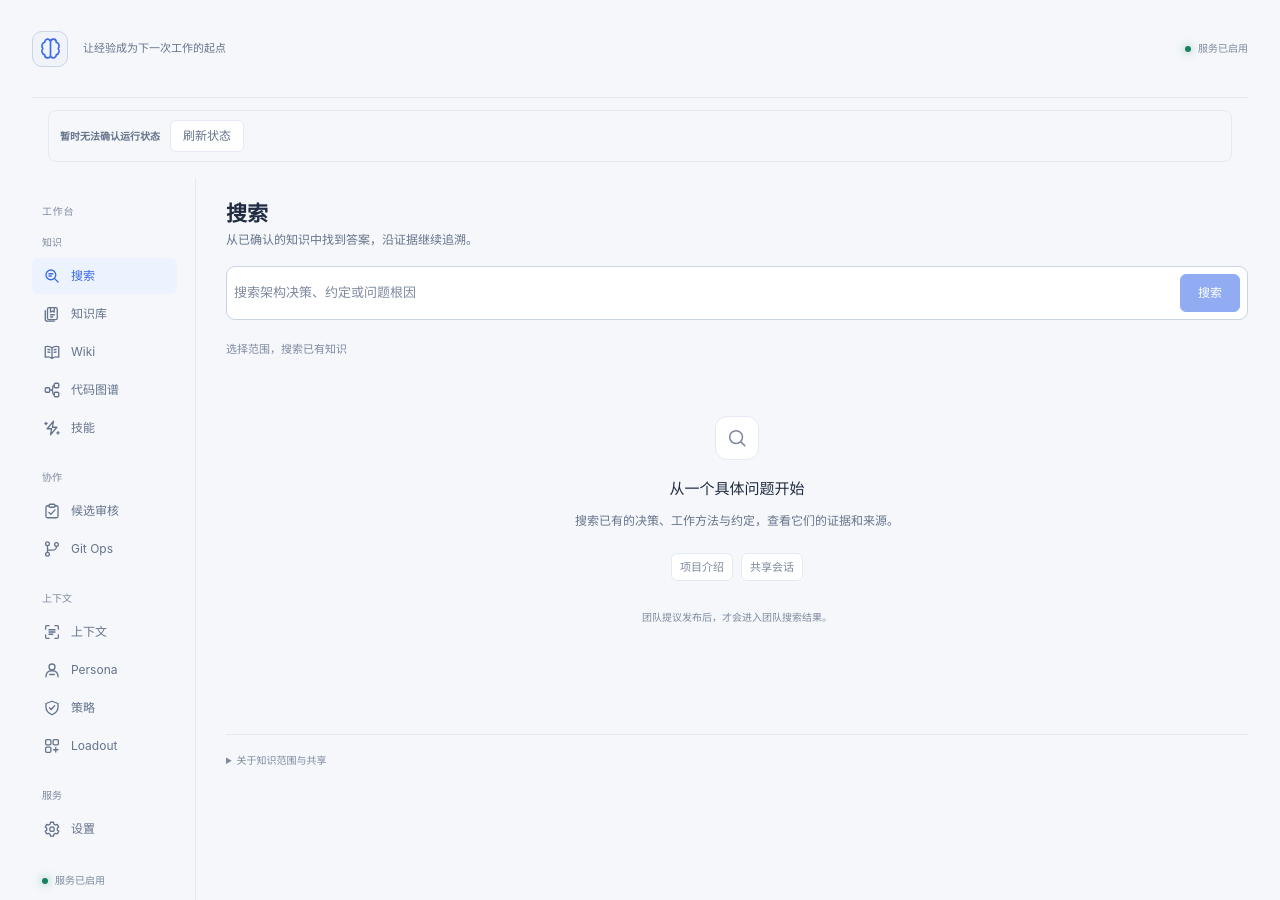
Scenario: MemoryView › claims header keeps the design create action visible but disabled without an API
Click the tab with test id "memory-tab-claims": [104, 314] box x1=32 y1=296 x2=177 y2=332
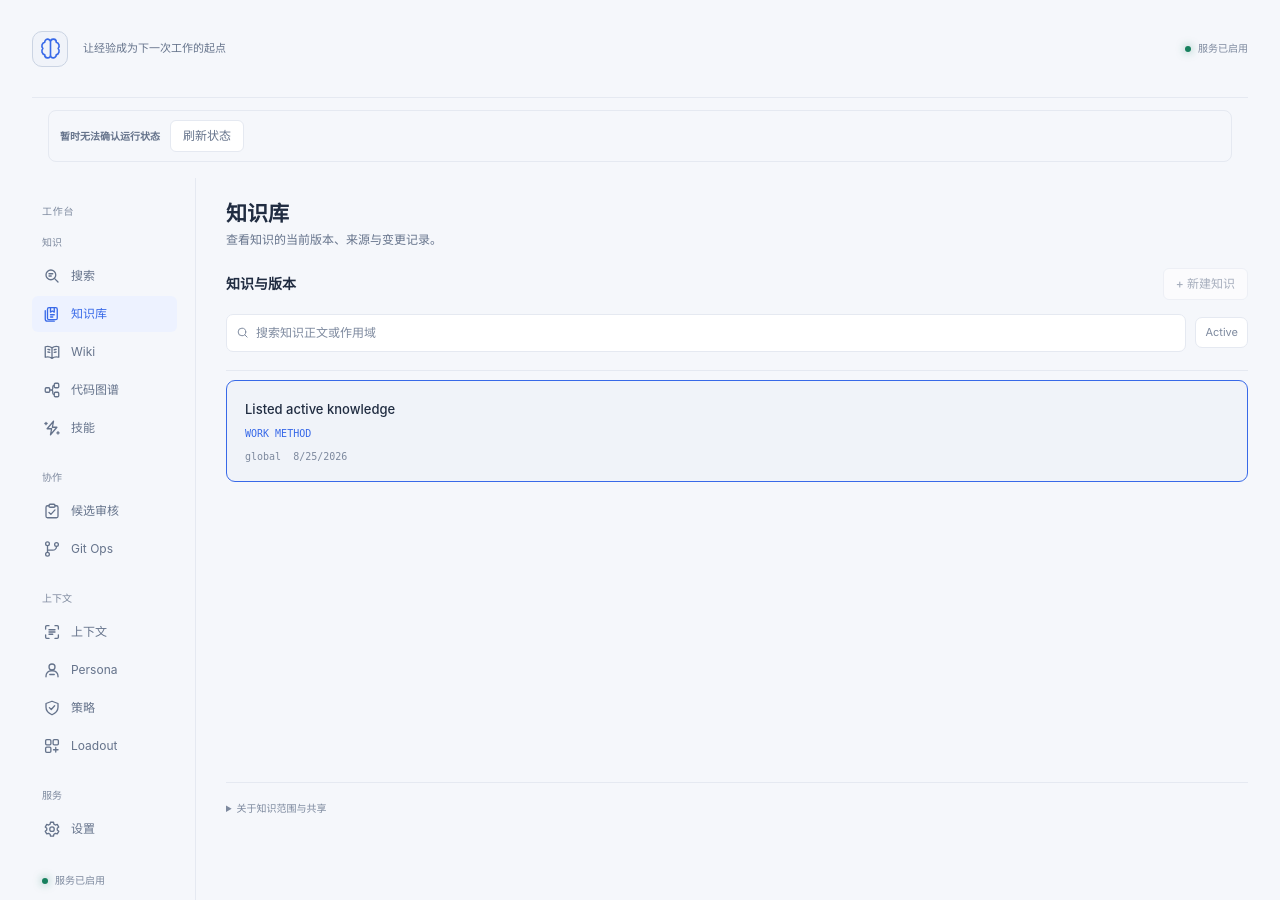
Now the button with test id "memory-claim-create" is disabled, box x1=1163 y1=268 x2=1248 y2=300
Now the button with test id "memory-claim-create" shows "新建知识", box x1=1163 y1=268 x2=1248 y2=300
Now the text with test id "memory-workspace-description" shows "版本、来源与变更记录", box x1=226 y1=232 x2=442 y2=246
